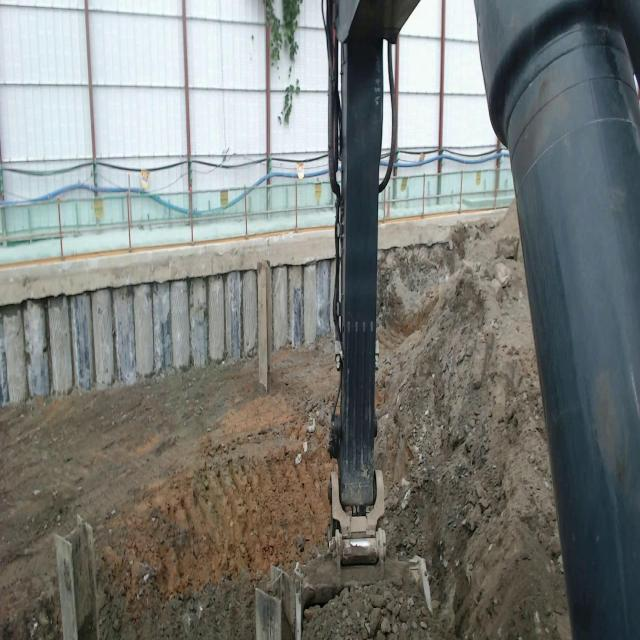cement: (0, 227, 334, 305), (380, 210, 499, 249)
red-sand: (304, 218, 570, 639), (0, 340, 336, 639)
